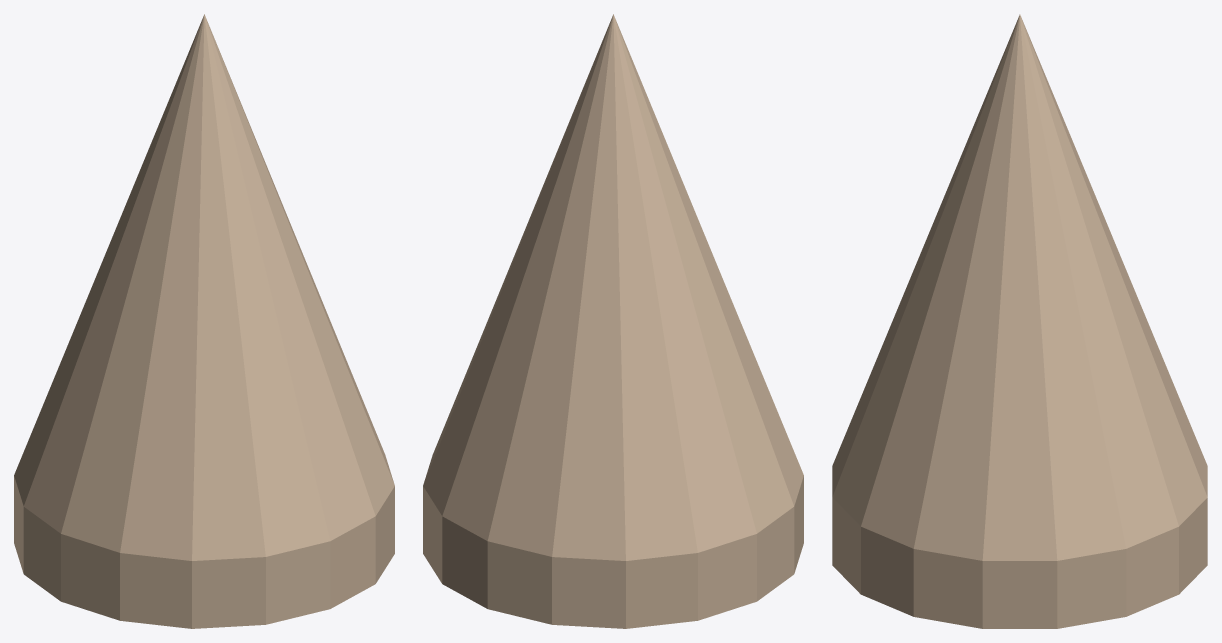
The model's file is hydra_lv_nose_fuel_tank_s2_1_collider.obj.
3 views of the same model, side by side, from view 1: azimuth 30°, elevation 25°; view 2: azimuth 150°, elevation 25°; view 3: azimuth 270°, elevation 25° (orthographic).
Parts seen in each view (by area): view 1: collider; view 2: collider; view 3: collider.
Part boxes in pixels (<box>): collider: <box>14,14,394,628</box>; collider: <box>423,14,803,628</box>; collider: <box>832,14,1207,628</box>.
Bounding box in the file's own units: 2.5 × 3.94 × 2.5.
